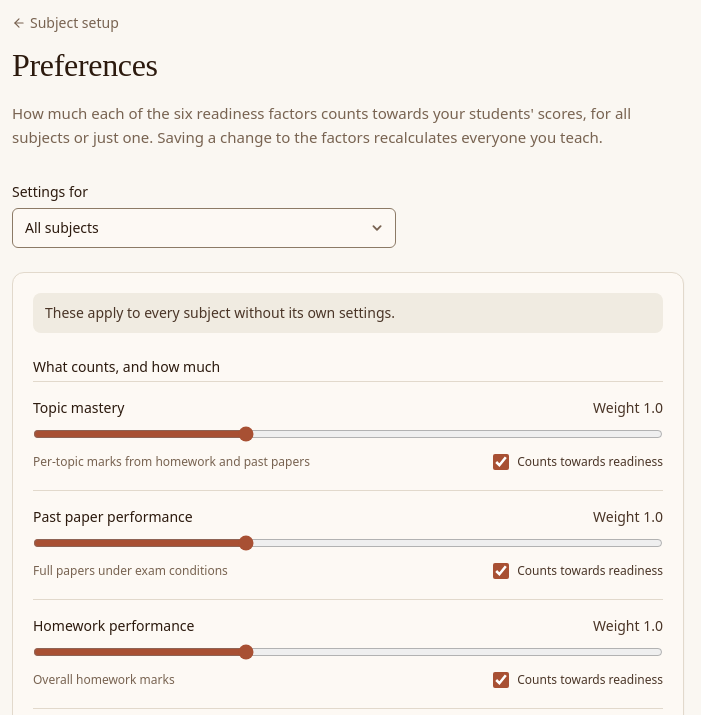
it: a subject's override can be removed
The image size is (701, 715).
Select "Chemistry (Edexcel IGCSE 4CH1)" in the dropdown labelled "Settings for": (204, 228) top-left (12, 208), bottom-right (396, 248)
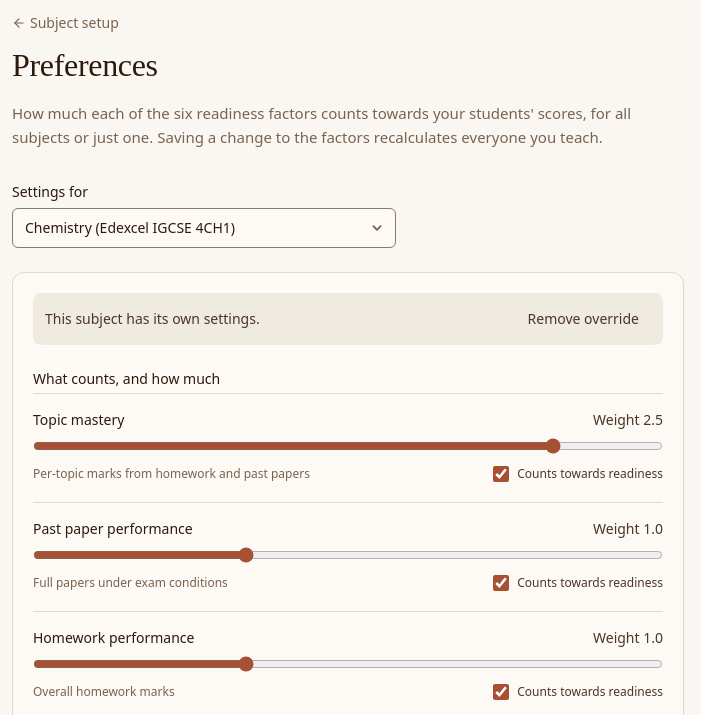
Click the button "Remove override": (583, 319) top-left (516, 303), bottom-right (651, 335)
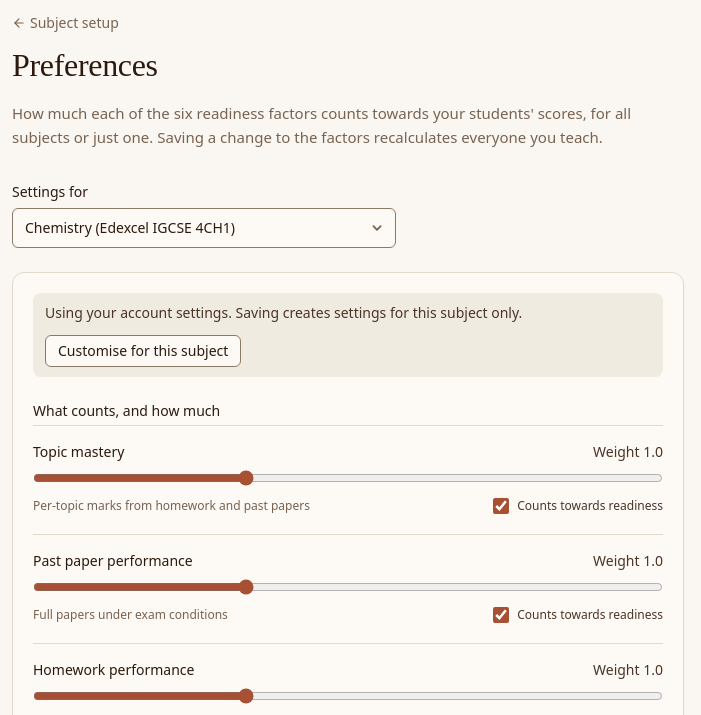
expect the text "Using your account settings" is shown: met, box top-left (45, 303), bottom-right (522, 322)
